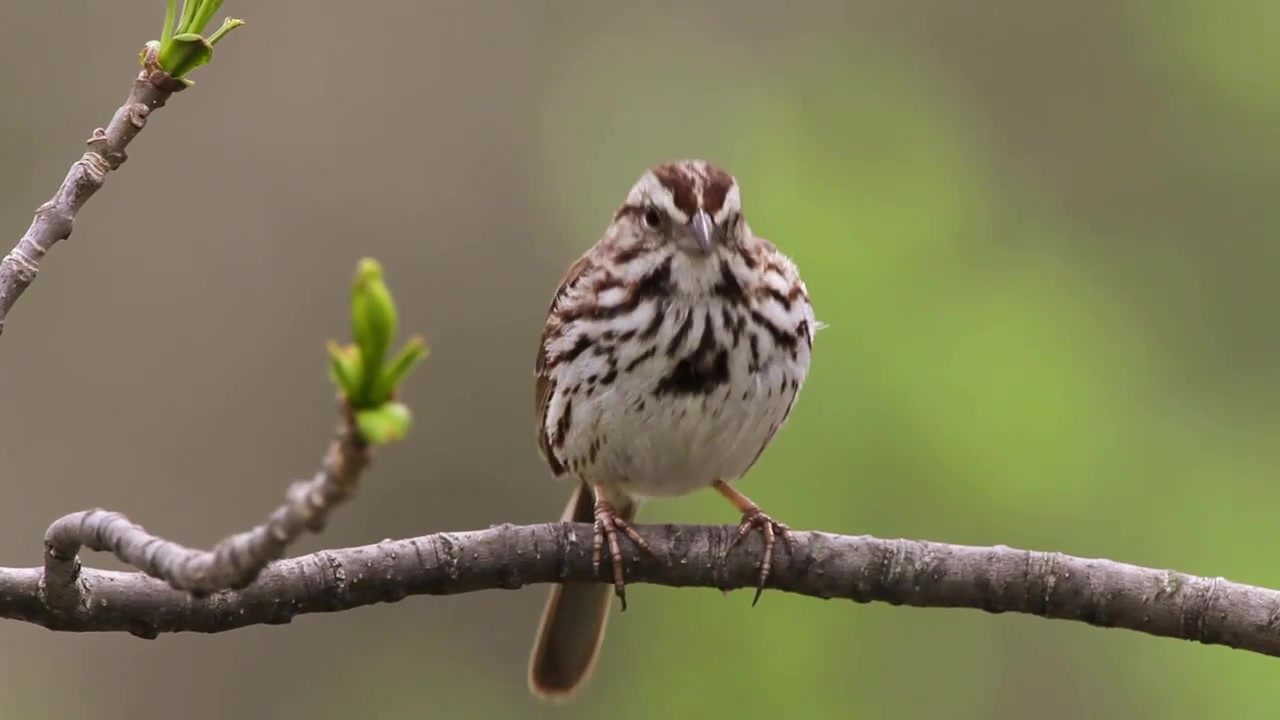bird: (531, 151, 818, 700)
